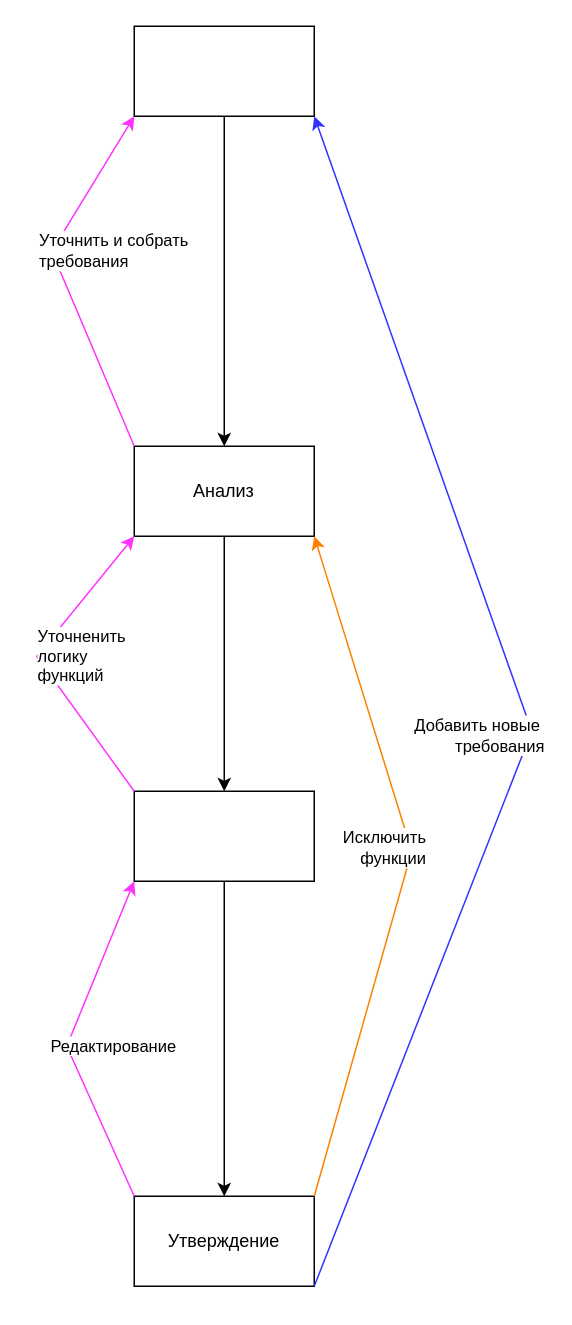
Some shapes in this 572 by 1325 pixel diagram are drawn without their labels. The shapes that lost their labels are listed below. From the top down, each one's box as (x1, y1, x2, y2) in pixels, then its label:
(133, 25, 314, 116): Выявление
(133, 790, 314, 881): Документирование
